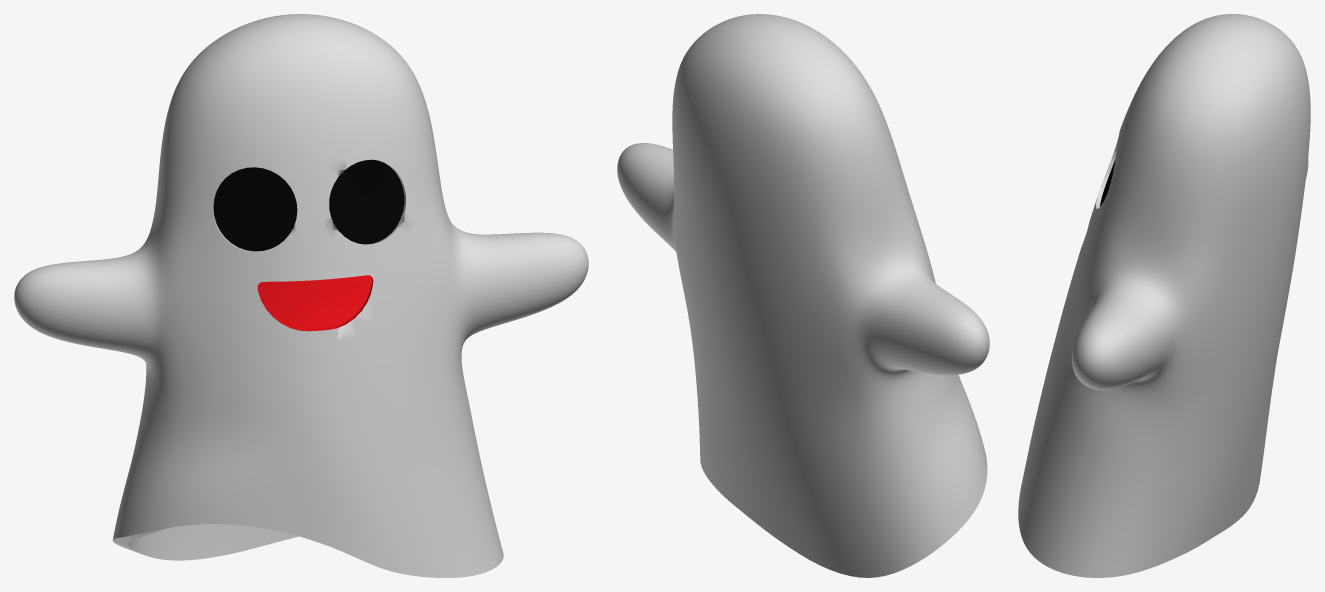
File: Ghost.obj
3 renders of one model, left to right at view 1: azimuth 30°, elevation 25°; view 2: azimuth 150°, elevation 25°; view 3: azimuth 270°, elevation 25°, orthographic. The views are drawn at different scales.
Parts seen in each view (by area): view 1: Cube.001; view 2: Cube.001; view 3: Cube.001.
Part boxes in pixels (x1,y1,x2,y2): Cube.001: (14, 14, 588, 577); Cube.001: (617, 14, 989, 577); Cube.001: (1018, 14, 1310, 577).
Size of the model in its own units: 275 by 294 by 153.
